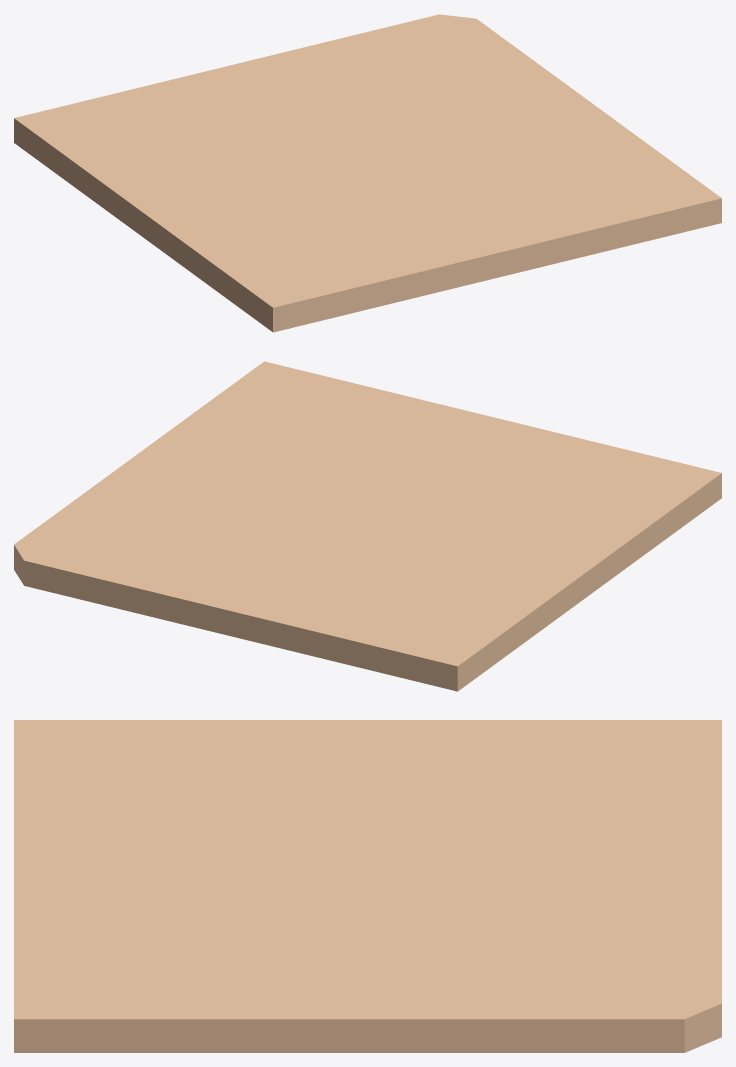
File: floorCorner.fbx
3 renders of one model, top to bottom at view 1: azimuth 30°, elevation 25°; view 2: azimuth 150°, elevation 25°; view 3: azimuth 270°, elevation 25°, orthographic. The views are drawn at different scales.
Visible parts, largest first — view 1: floorCorner; view 2: floorCorner; view 3: floorCorner.
Boxes of the visible parts, x1,y1,x2,y2 form: floorCorner: (14,14,721,332); floorCorner: (14,361,721,691); floorCorner: (14,720,721,1052).
Bounding box in the file's own units: 95 × 95 × 5.
